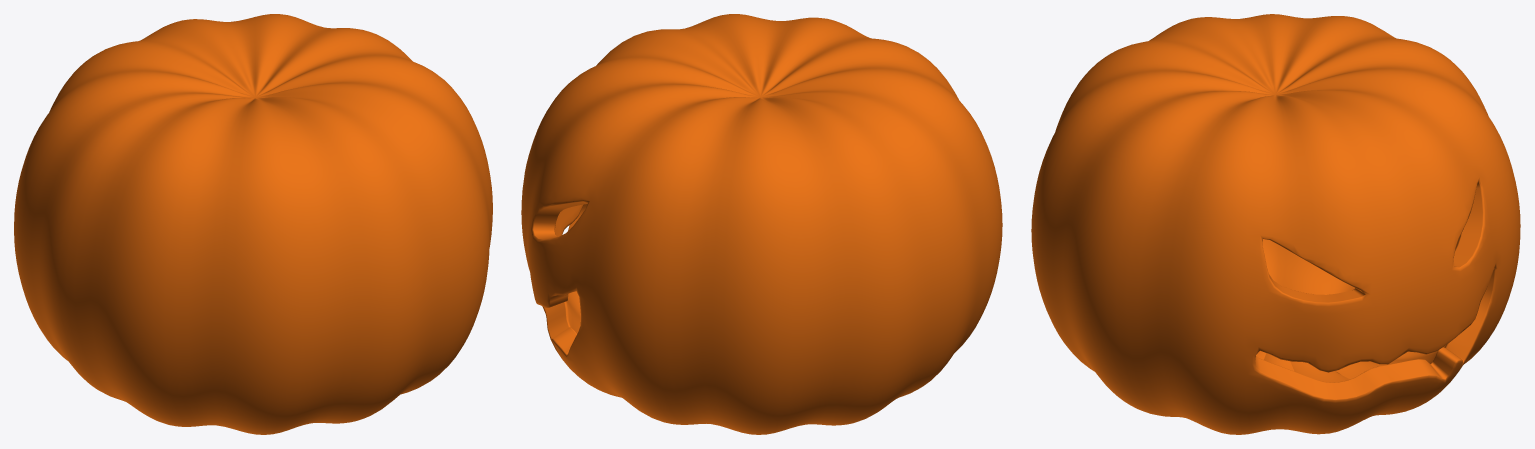
The model's file is Pumpkin2.glb.
3 renders of one model, left to right at view 1: azimuth 30°, elevation 25°; view 2: azimuth 150°, elevation 25°; view 3: azimuth 270°, elevation 25°, orthographic.
Parts seen in each view (by area): view 1: Pumpkin.002; view 2: Pumpkin.002; view 3: Pumpkin.002.
Boxes of the visible parts, x1,y1,x2,y2 form: Pumpkin.002: [14, 14, 492, 434]; Pumpkin.002: [521, 14, 1002, 434]; Pumpkin.002: [1031, 14, 1520, 434].
Bounding box in the file's own units: 2.14 × 1.52 × 2.18.
